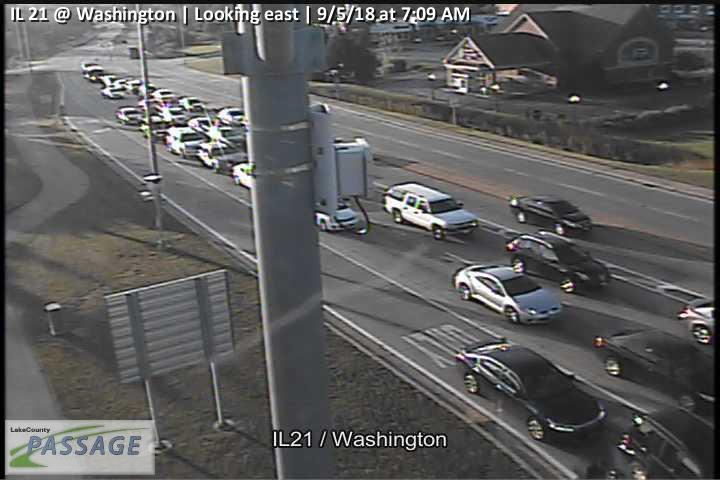SUV: (617, 405, 720, 480), (504, 232, 611, 293), (383, 182, 479, 241), (197, 141, 248, 171), (164, 126, 206, 159)
Sedan: (454, 338, 606, 440), (593, 327, 712, 411), (452, 263, 563, 325), (509, 193, 594, 236), (115, 106, 144, 125)
